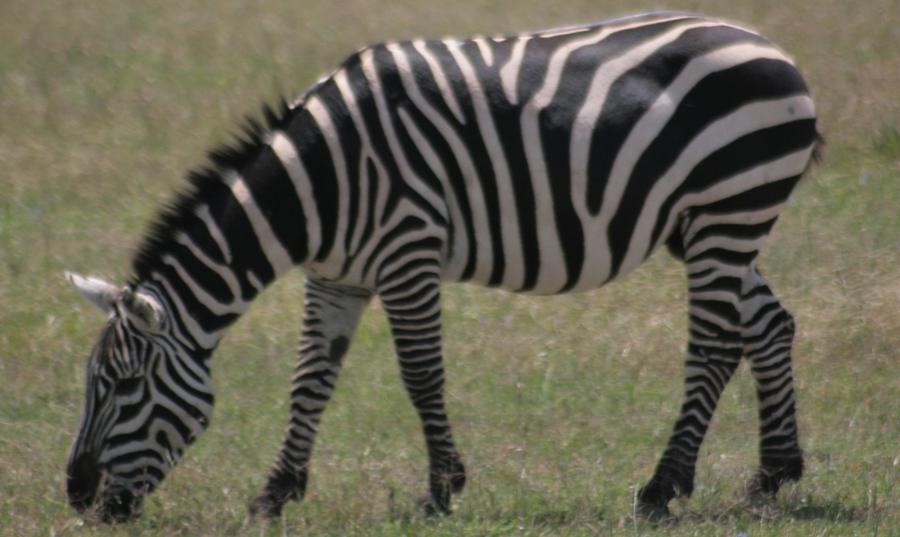zebra_plains: (326, 33, 790, 275)
